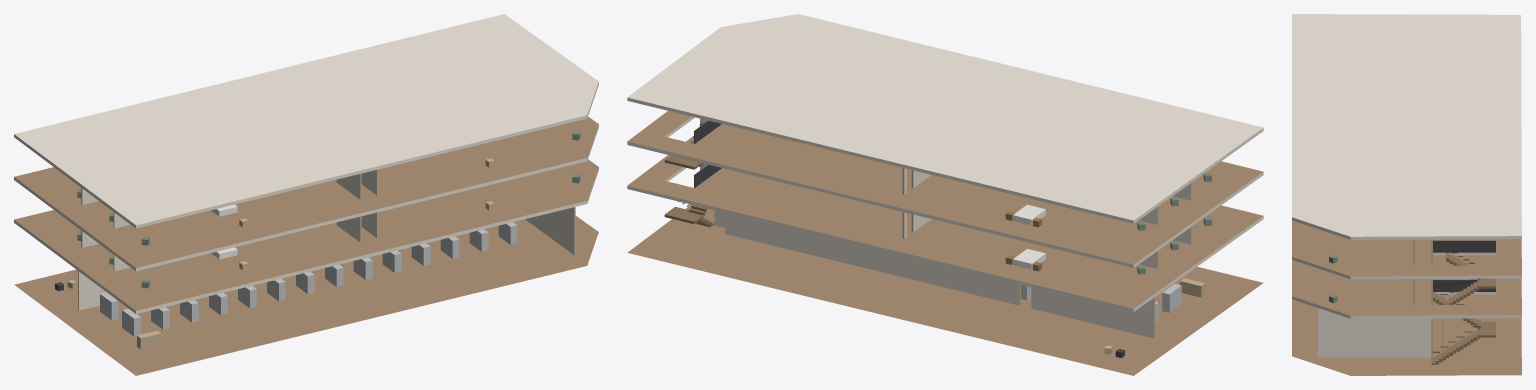
The model's file is interior.glb.
3 renders of one model, left to right at view 1: azimuth 30°, elevation 25°; view 2: azimuth 150°, elevation 25°; view 3: azimuth 270°, elevation 25°, orthographic. The views are drawn at different scales.
Visible parts, largest first — view 1: slabs, coarse-s0, partitions, coarse-s1, coarse-s2; view 2: slabs, partitions, stair, coarse-s0, coarse-s1, coarse-s2; view 3: slabs, partitions, stair.
Part boxes in pixels (x1,y1,x2,y2): slabs: (14, 14, 598, 375); coarse-s0: (55, 222, 517, 349); partitions: (78, 169, 575, 310); coarse-s1: (77, 174, 580, 288); coarse-s2: (77, 131, 580, 245); slabs: (627, 14, 1263, 375); partitions: (700, 118, 1191, 338); stair: (664, 120, 721, 227); coarse-s0: (1021, 278, 1205, 358); coarse-s1: (1005, 217, 1211, 274); coarse-s2: (1005, 173, 1211, 230); slabs: (1292, 14, 1521, 375); partitions: (1318, 239, 1443, 364); stair: (1432, 240, 1495, 364).
Size of the model in its own units: 41 by 11.95 by 17.86.
